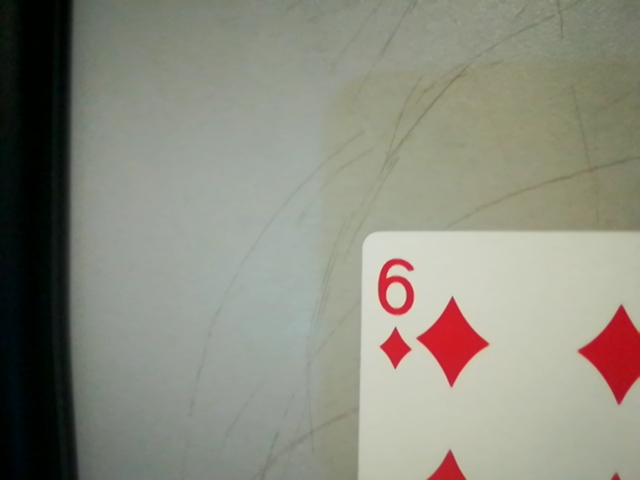fk 6: (363, 251, 423, 376)
